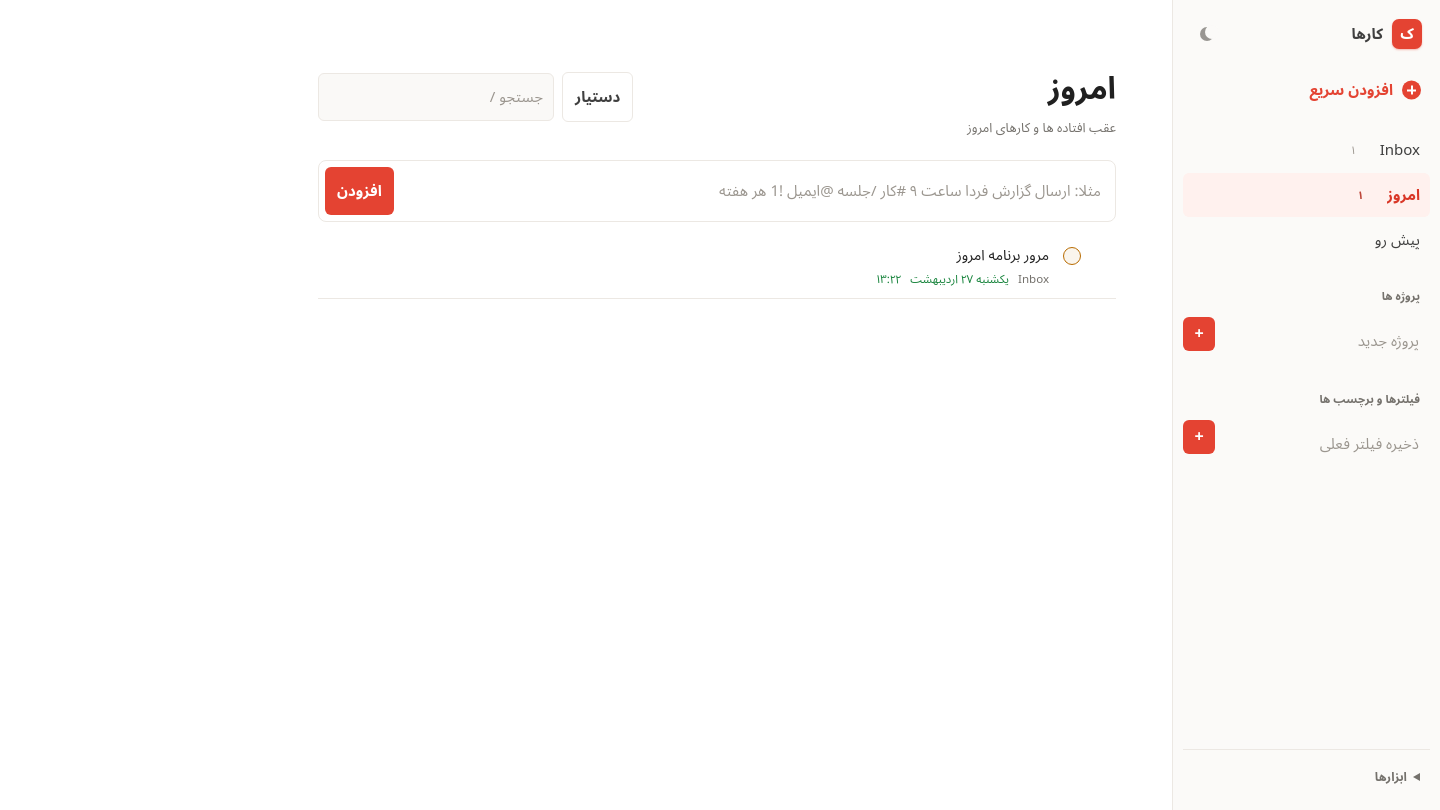
Test: App › cancels assistant previews without applying changes
Click the button "دستیار". click: (598, 97)
box: [562,72,633,122]
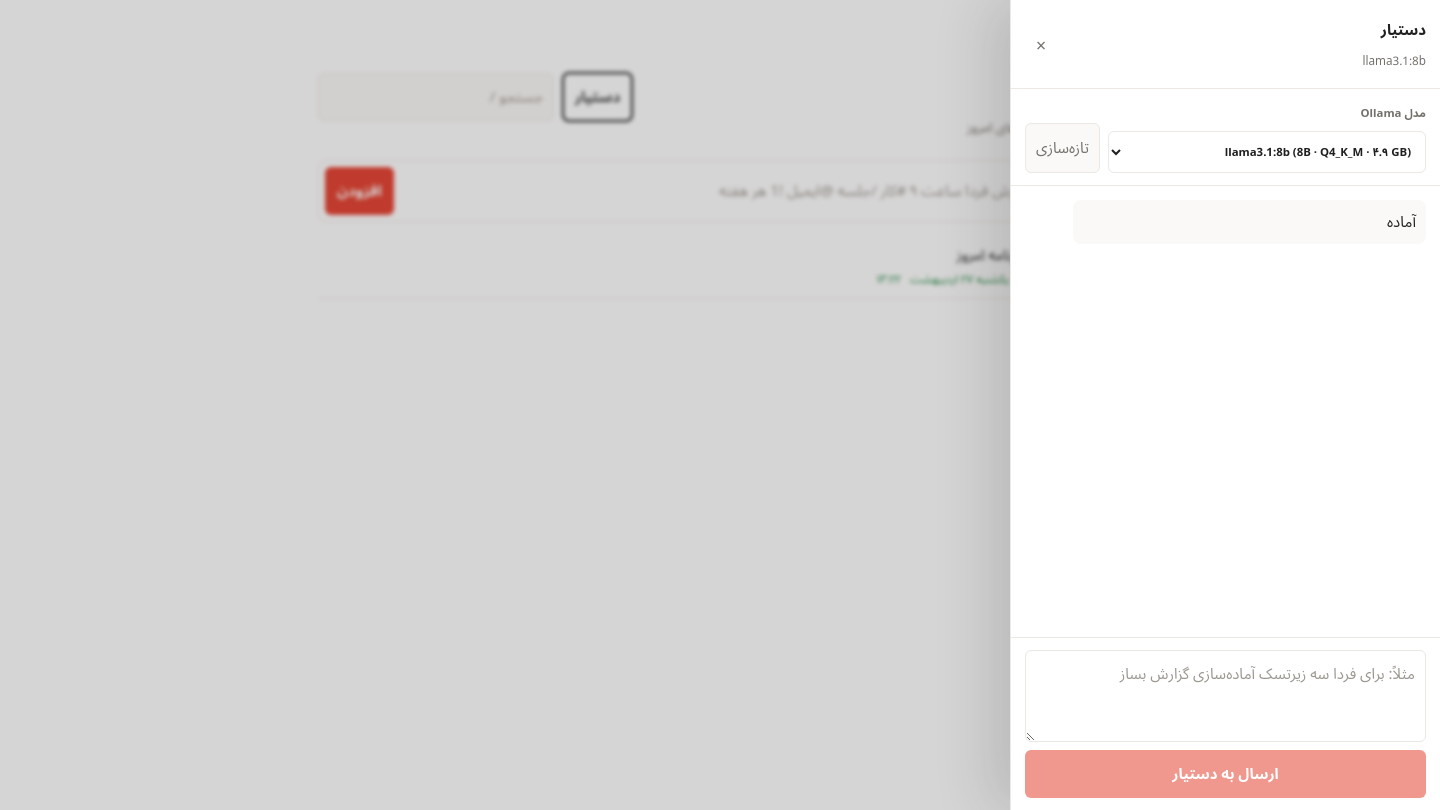
Type "یک تسک جدید بساز" into the text box with placeholder "مثلاً: برای فردا سه زیرتسک آماده‌سازی گزارش بساز". click: (1226, 696)
box: [1025,650,1426,742]
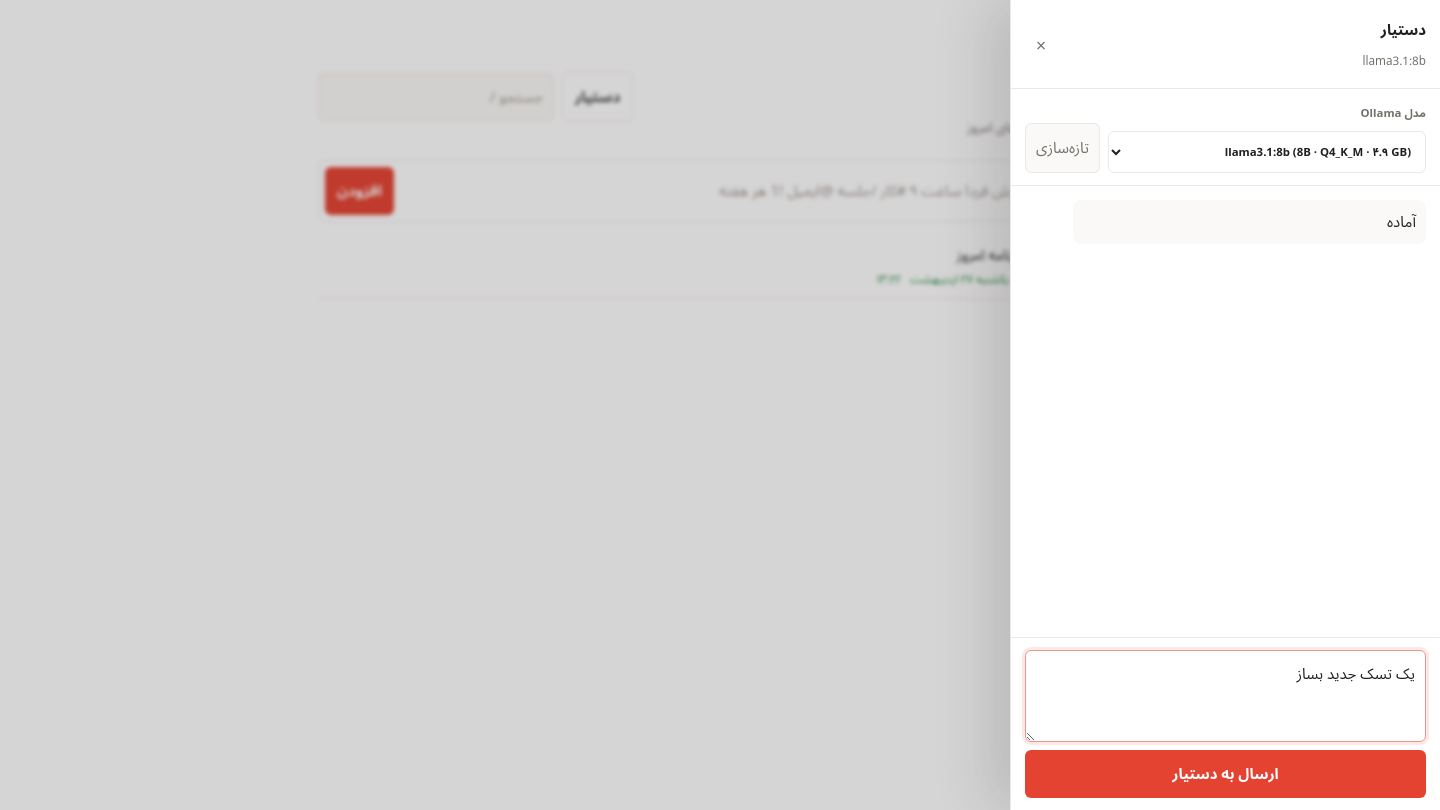
Click the button "ارسال به دستیار". click: (1226, 774)
box: [1025,750,1426,798]
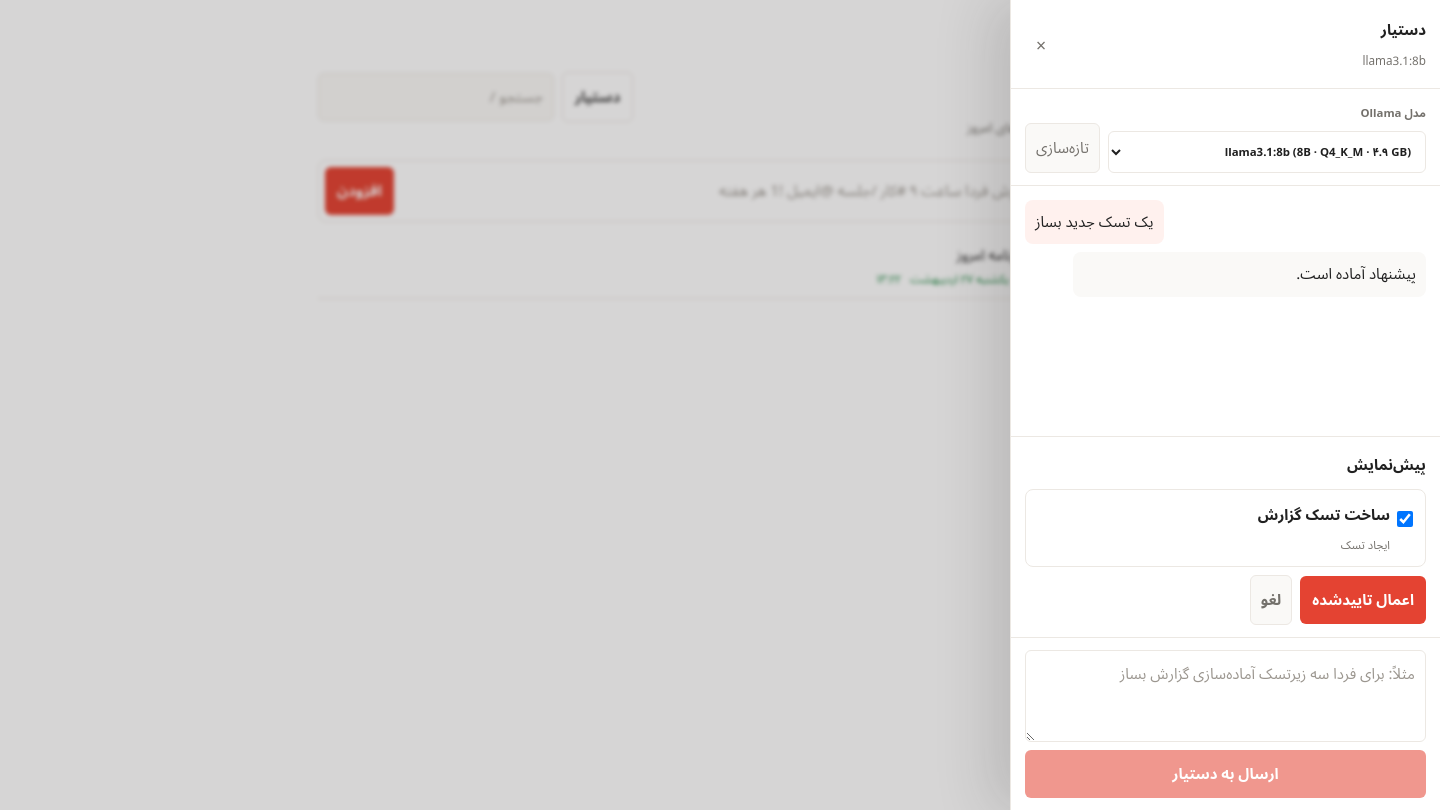
Result: the text "ساخت تسک گزارش" is shown at [1258,499,1390,531]
Click the button "لغو". click: (1271, 600)
box: [1250,575,1292,625]
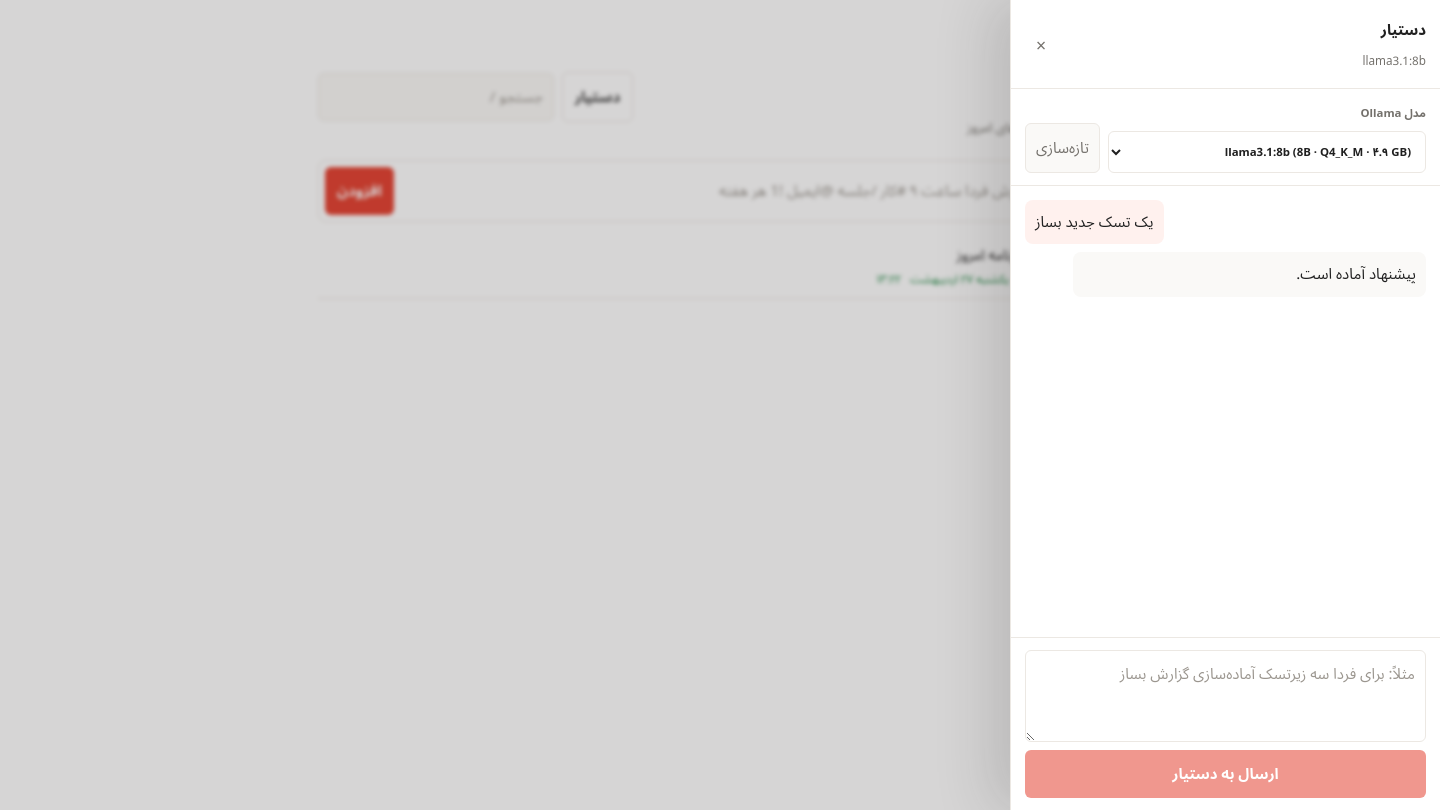
Result: the text "ساخت تسک گزارش" is gone
